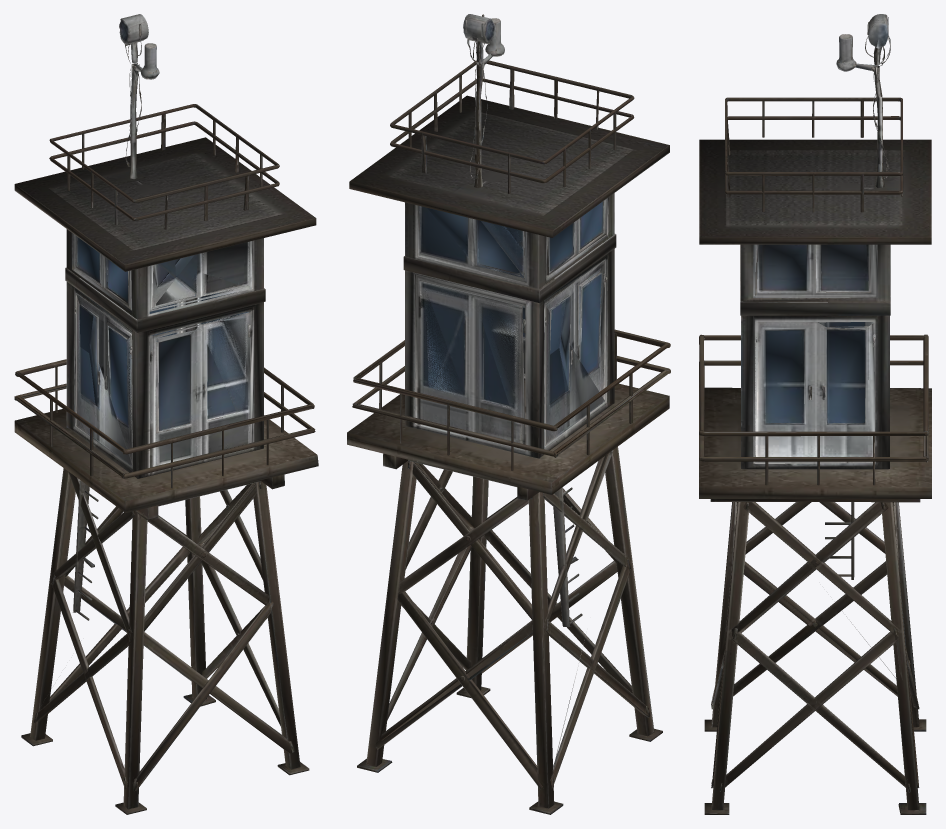
The model's file is guard_tower.glb.
The picture shows the model from 3 angles, left to right: view 1: azimuth 30°, elevation 25°; view 2: azimuth 150°, elevation 25°; view 3: azimuth 270°, elevation 25°; orthographic projection. The views are drawn at different scales.
Bounding box in the file's own units: 3.15 × 11 × 3.1.
Materials: 1 (1 with a texture image).
